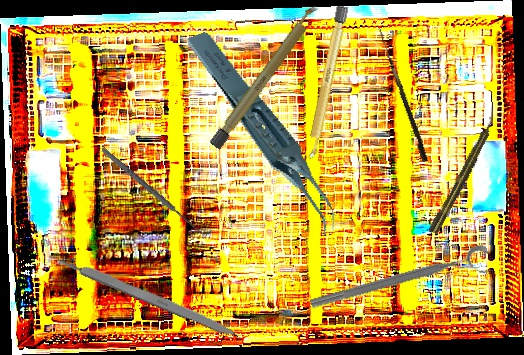Fixation Ring: (308, 243, 494, 324)
Handpiece: (427, 115, 499, 236)
Hook Surgical: (98, 142, 214, 241), (372, 27, 431, 163)
Scalpel Handle: (208, 0, 324, 152), (56, 252, 242, 341), (304, 3, 349, 163)
Tissue Forceps: (185, 12, 341, 257)
